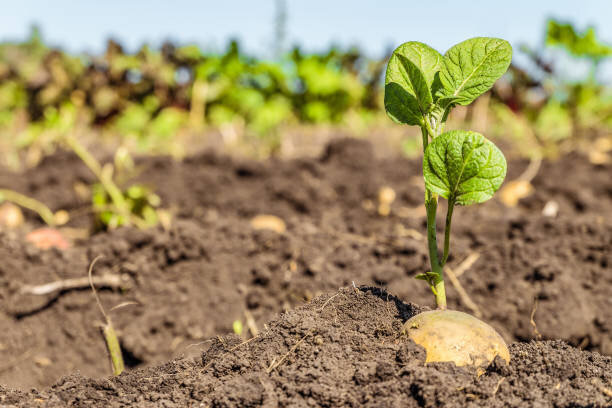potato_plant: (383, 35, 516, 302)
